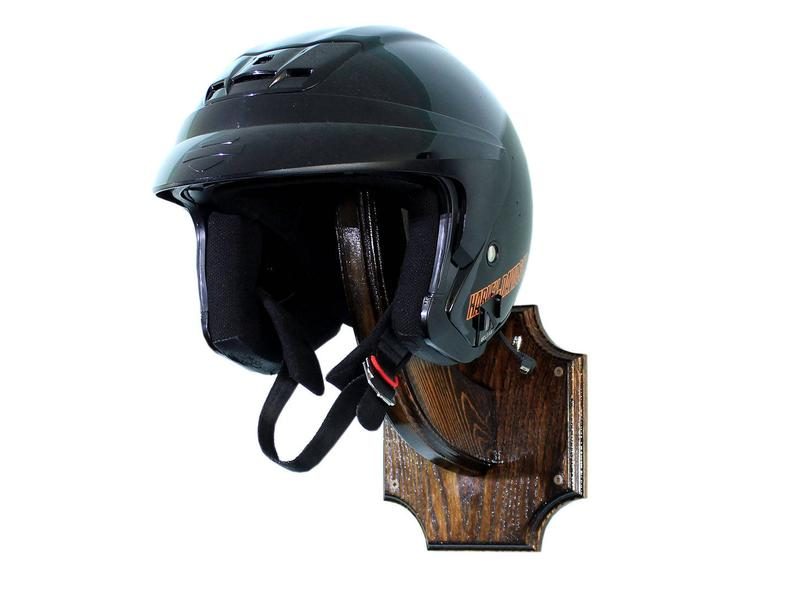with_helmet: (149, 14, 595, 475)
